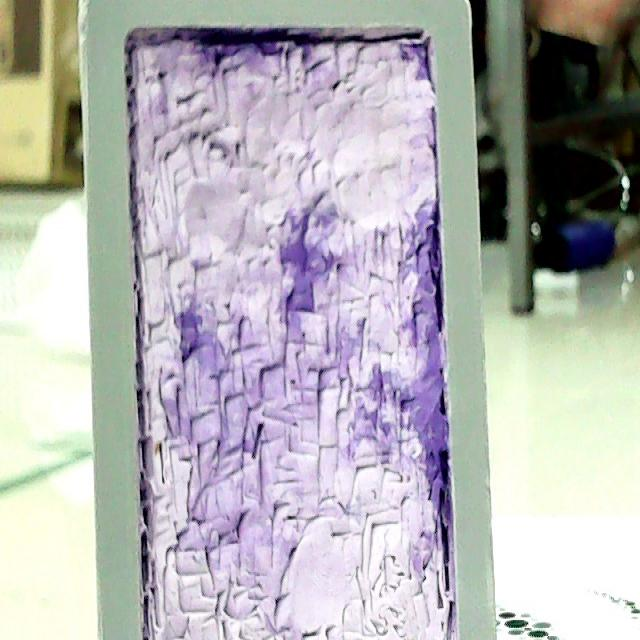block: (76, 4, 508, 640)
